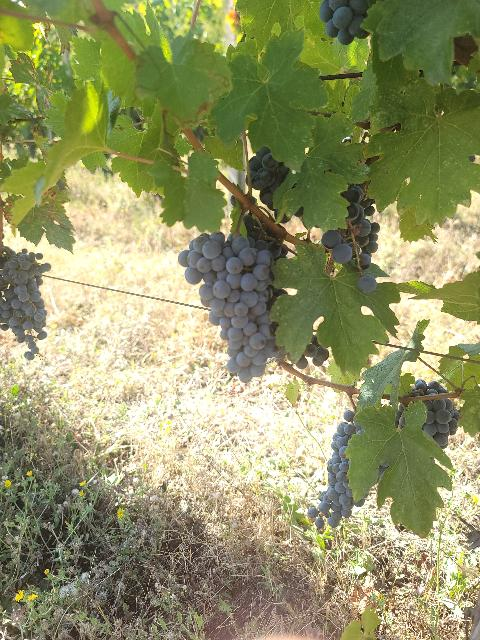grapes: (179, 232, 282, 382), (308, 410, 366, 530), (0, 249, 51, 360), (422, 399, 459, 449), (409, 379, 449, 396)
